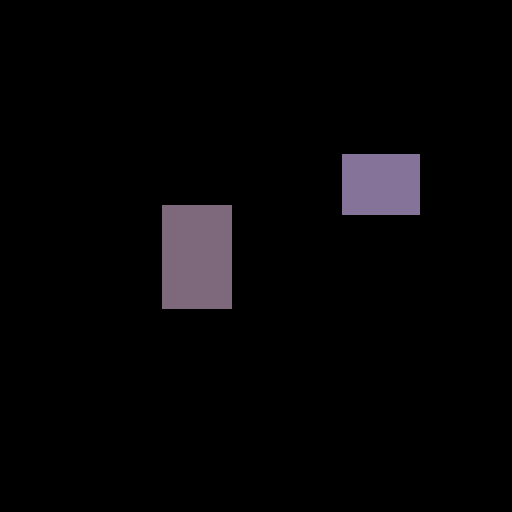rectangle: (162, 205, 231, 308), (342, 154, 419, 214)
